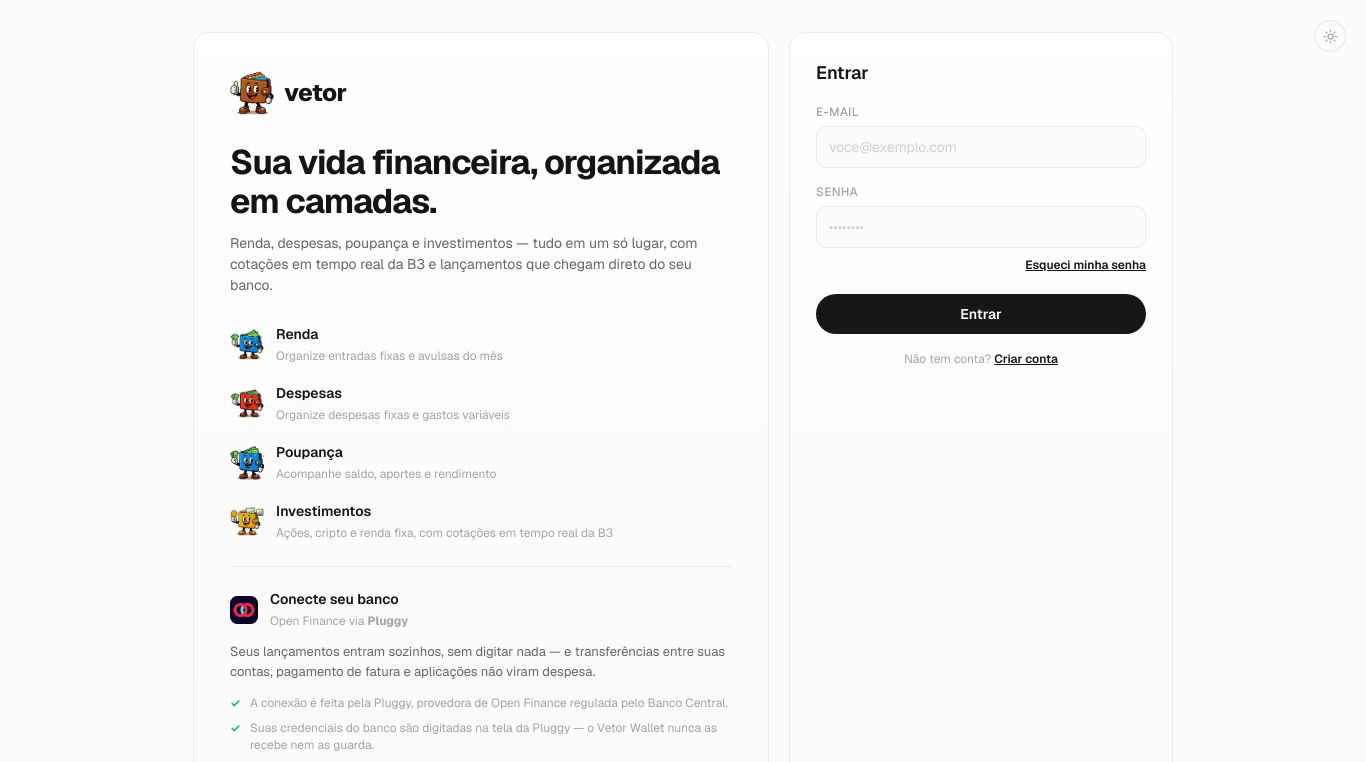
Test: AuthPage — política de senha (T-106b) › a lista de requisitos reage enquanto digita
The image size is (1366, 762).
Click the button "Criar conta": (1026, 359) x1=994 y1=350 x2=1058 y2=368
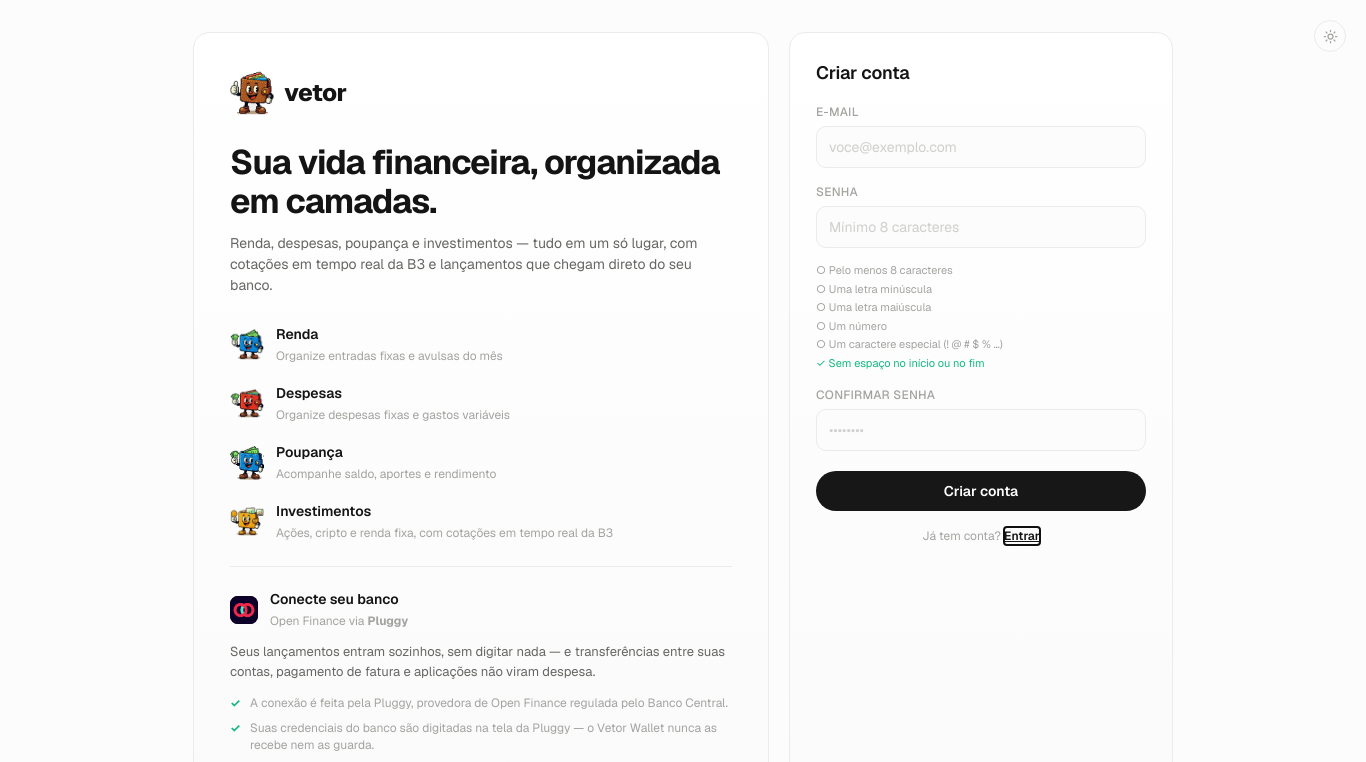
Now the list item "Pelo menos 8 caracteres" shows "○", box x1=816 y1=263 x2=826 y2=277
In the password field labelled "Senha": (981, 227) x1=816 y1=206 x2=1146 y2=248, type "Senha123!"
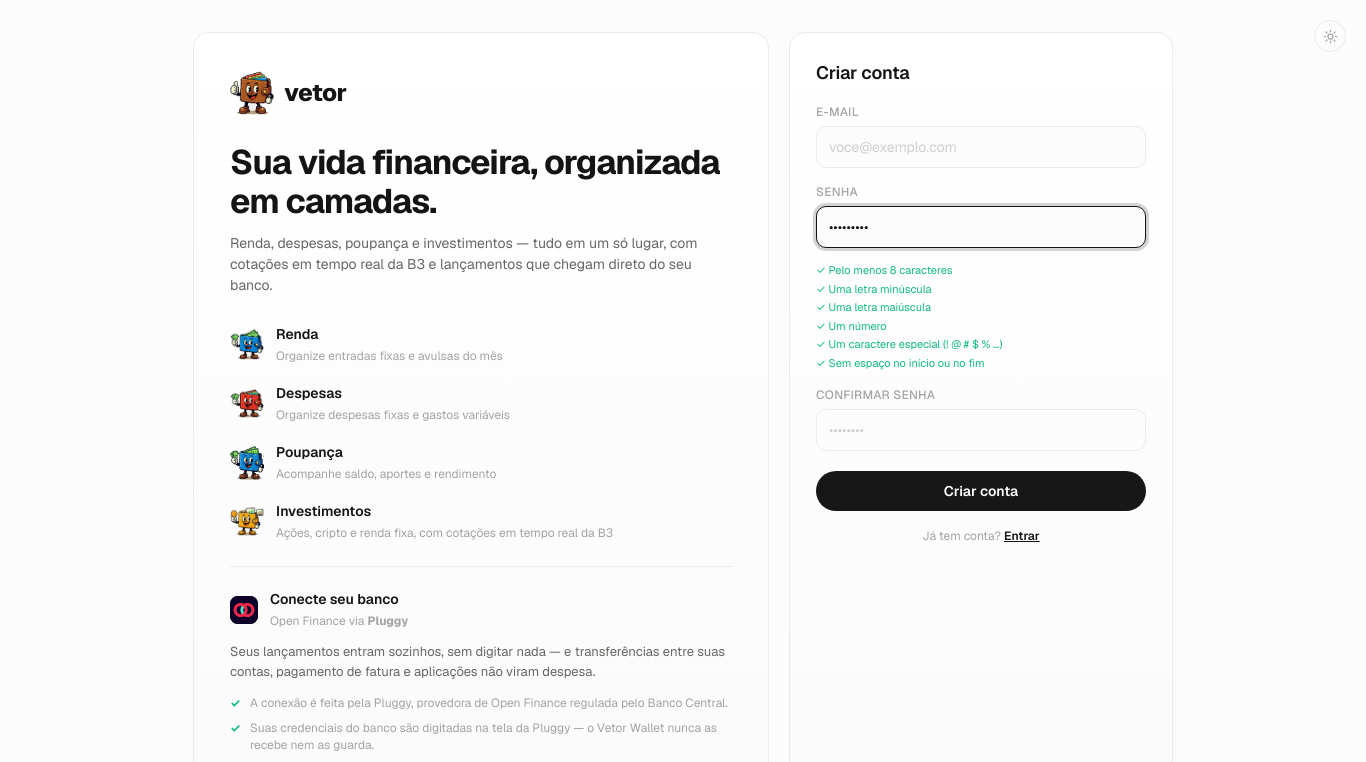
Now the list item "Pelo menos 8 caracteres" shows "✓", box x1=816 y1=263 x2=826 y2=277
Now the list item "Uma letra minúscula" shows "✓", box x1=816 y1=282 x2=826 y2=296
Now the list item "Uma letra maiúscula" shows "✓", box x1=816 y1=300 x2=826 y2=314
